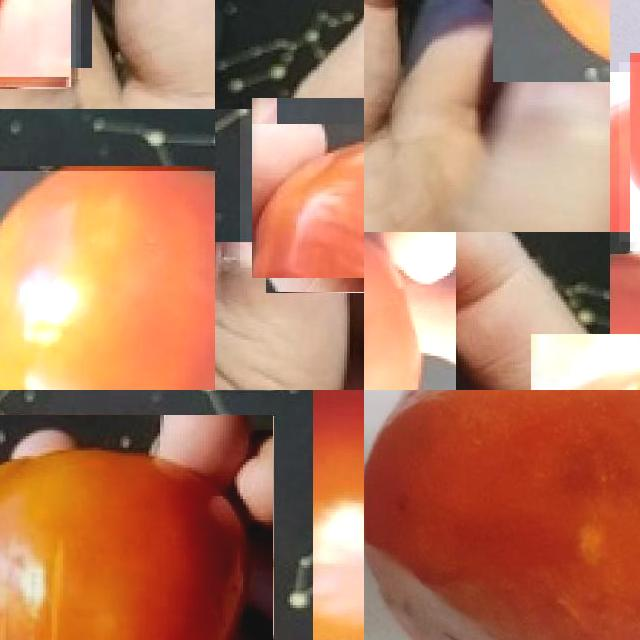Fresh Tomato: (0, 171, 215, 390), (313, 390, 364, 640)
Rotten Tomato: (364, 390, 640, 640), (0, 415, 273, 640), (245, 103, 364, 272), (364, 232, 456, 390)
